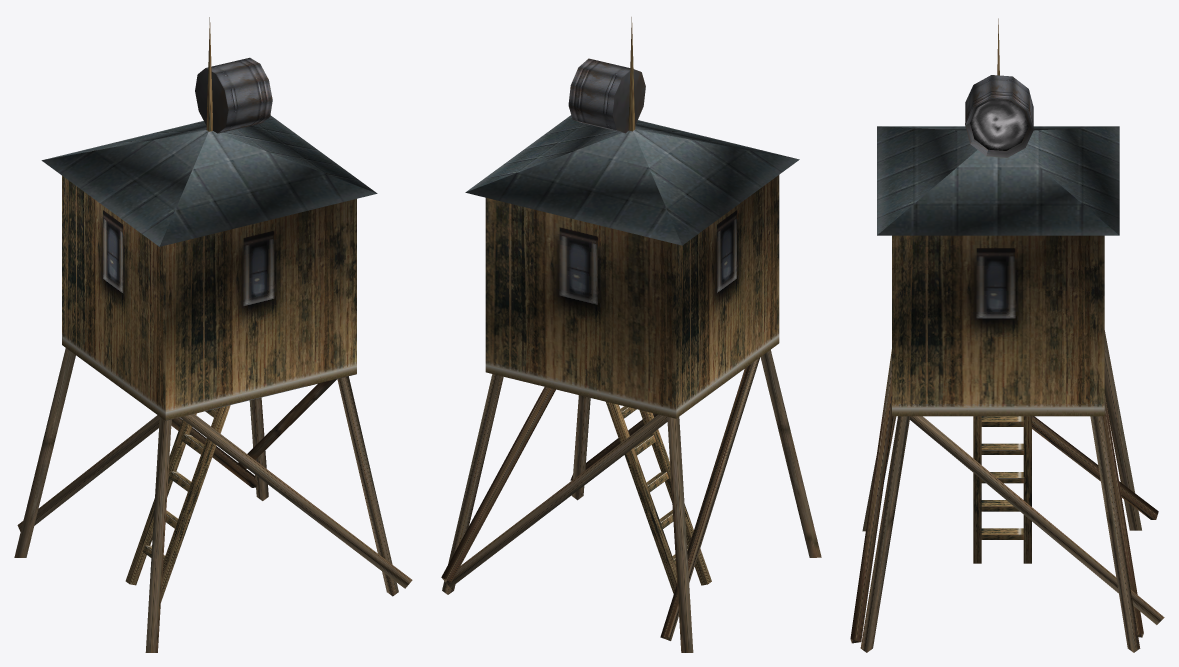
File: Civilian - Civilian Building - Wood Tower - CBTower.glb
3 views of the same model, side by side, from view 1: azimuth 30°, elevation 25°; view 2: azimuth 150°, elevation 25°; view 3: azimuth 270°, elevation 25° (orthographic). The views are drawn at different scales.
Parts seen in each view (by area): view 1: CBTOWER; view 2: CBTOWER; view 3: CBTOWER.
Boxes of the visible parts, left/top/right/bottom form: CBTOWER: left=14, top=17, right=412, bottom=652; CBTOWER: left=441, top=17, right=821, bottom=652; CBTOWER: left=850, top=18, right=1164, bottom=652.
Bounding box in the file's own units: 19.14 × 39.89 × 19.57.
1 material, 1 textured.
